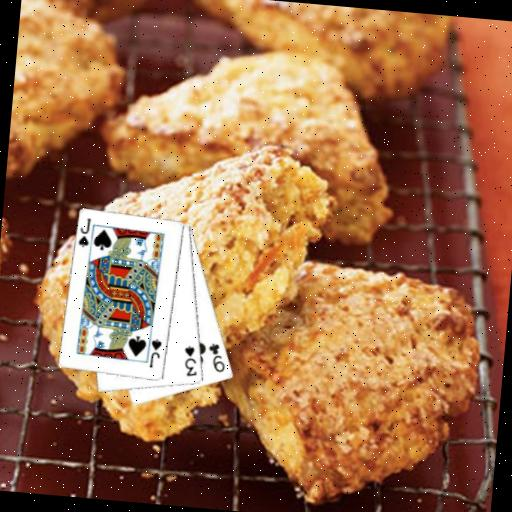3S: (180, 343, 201, 379)
9C: (204, 340, 229, 375)
JS: (146, 335, 164, 370), (76, 215, 93, 250)
